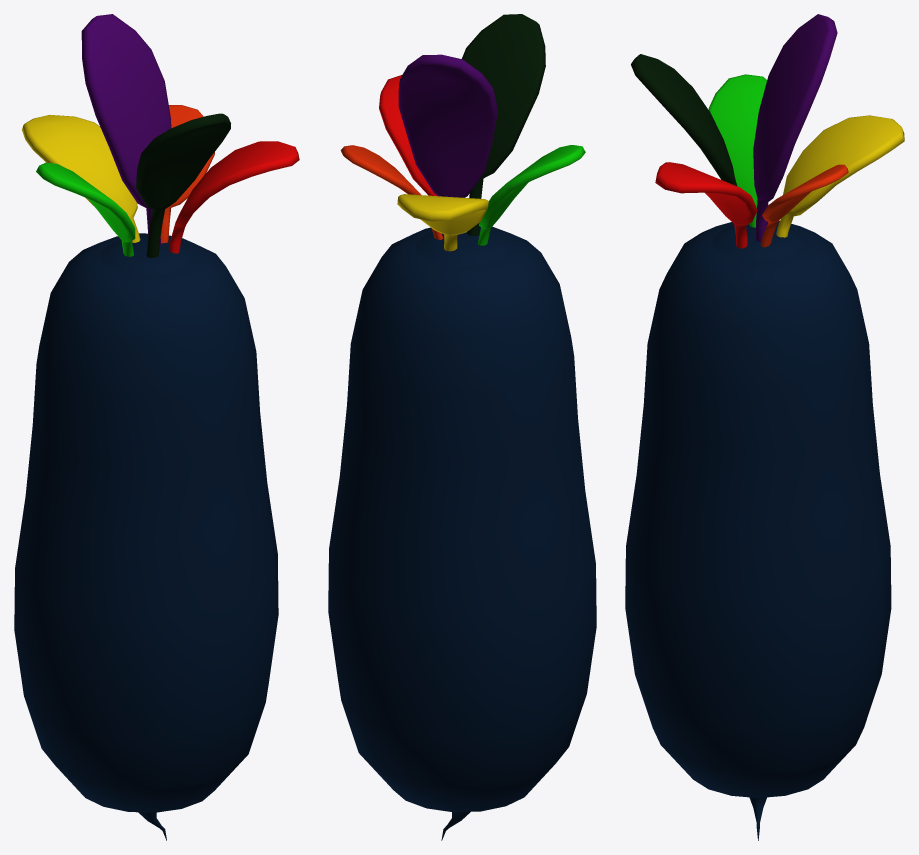
File: Radish.fbx
3 views of the same model, side by side, from view 1: azimuth 30°, elevation 25°; view 2: azimuth 150°, elevation 25°; view 3: azimuth 270°, elevation 25° (orthographic).
Visible parts, largest first — view 1: Radish; view 2: Radish; view 3: Radish.
Part boxes in pixels (x1,y1,x2,y2): Radish: (14, 14, 299, 840); Radish: (328, 14, 596, 840); Radish: (625, 14, 904, 840).
Bounding box in the file's own units: 15.85 × 16.64 × 53.
